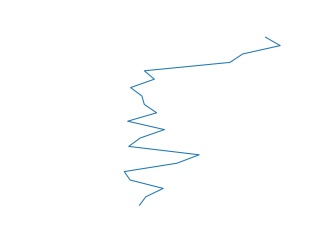crevasseRiverChannelBar: (122, 32, 284, 208)
